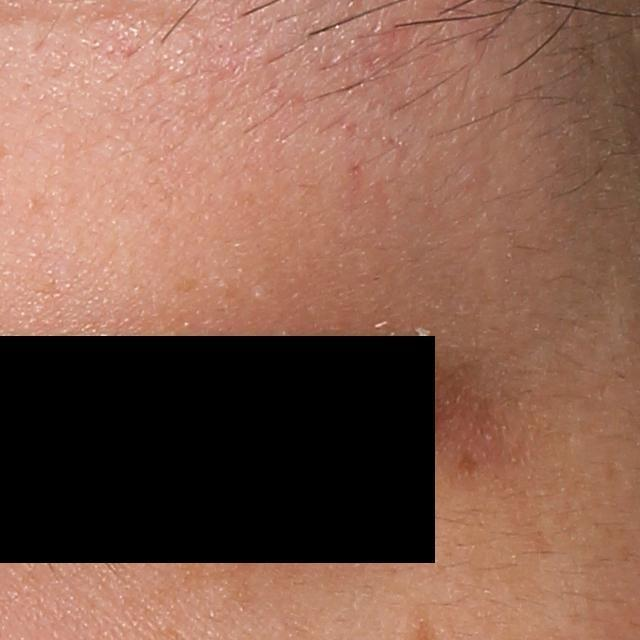melasma: (447, 450, 486, 487)
